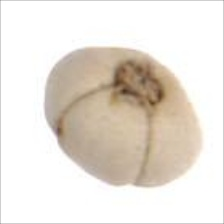L5: (54, 83, 154, 190), (107, 57, 174, 109)
L6: (40, 44, 206, 195)
